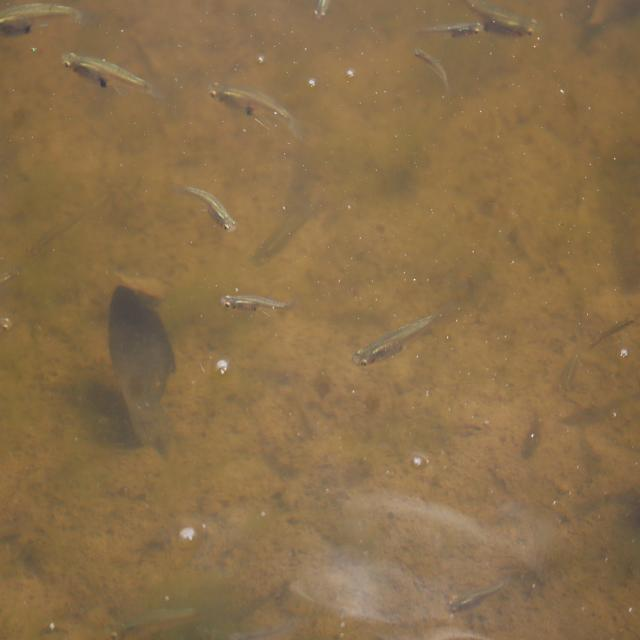Sivrisinek Baligi: (208, 61, 303, 147), (354, 309, 454, 378), (60, 45, 161, 105), (181, 173, 246, 241), (463, 0, 539, 53), (215, 282, 298, 328), (453, 572, 508, 621), (412, 39, 452, 89), (589, 310, 634, 354)
